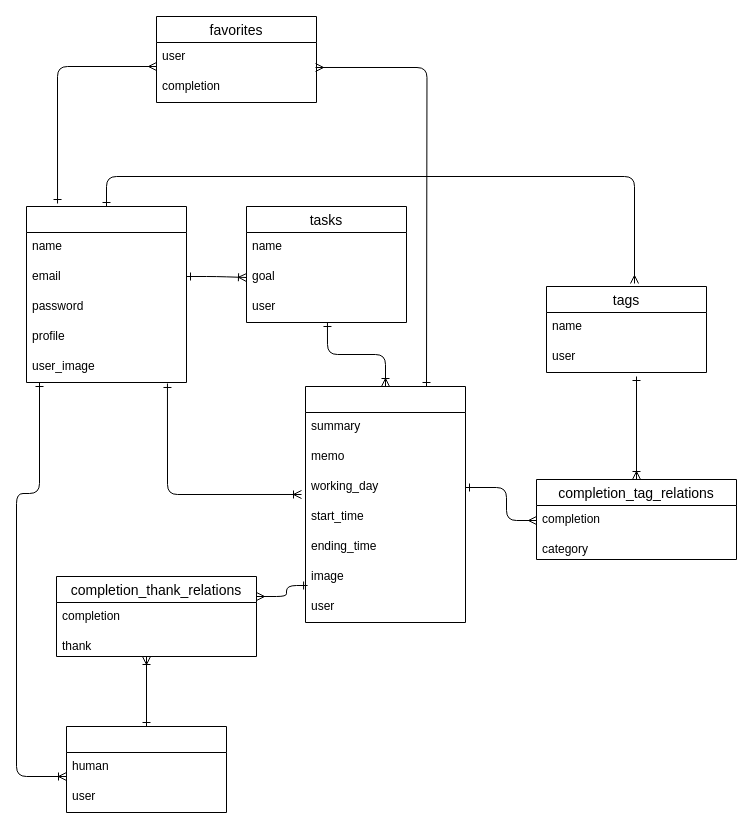
This 753x829 diagram has some shape labels left out. Here are the shapes that lost their labels. From the top down, the box of each, then its label:
(26, 206, 186, 382): users
(304, 386, 466, 622): completions
(66, 726, 226, 812): thanks
